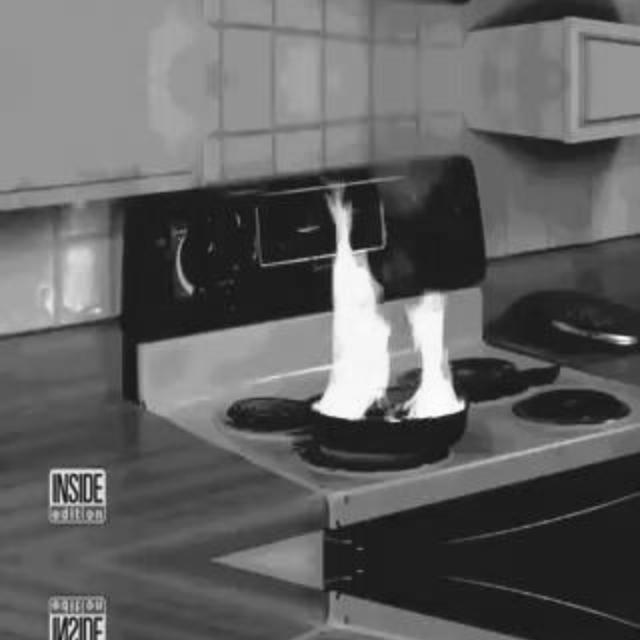smoke: (314, 180, 392, 421), (400, 288, 467, 420)
